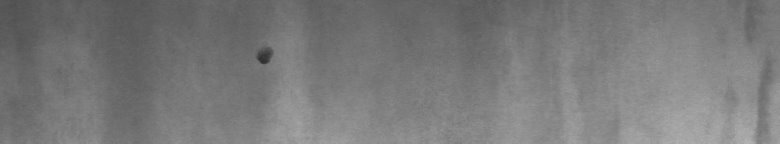fi: (252, 40, 279, 72)
